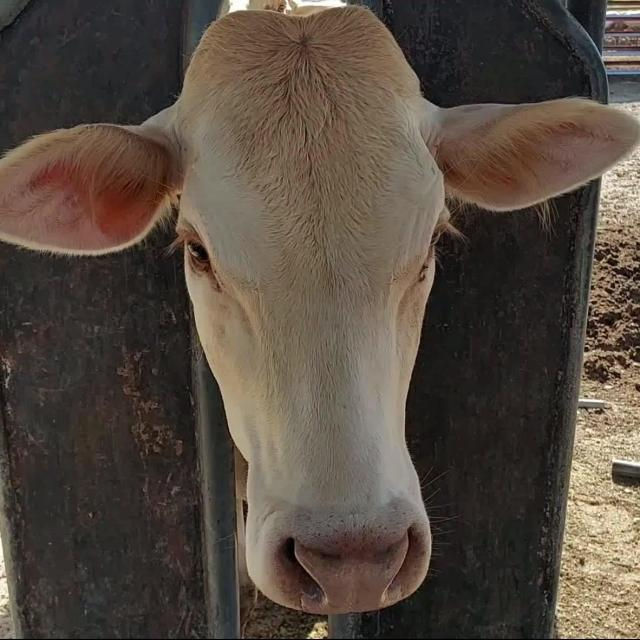cowFace: (174, 14, 445, 614)
